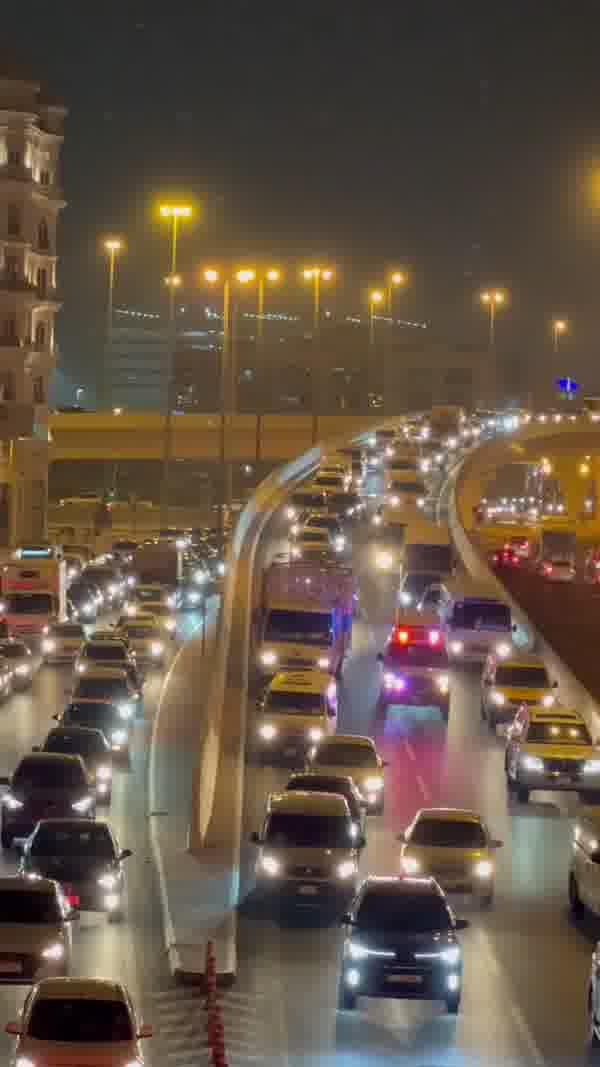AMBULANCE: (377, 609, 460, 719)
